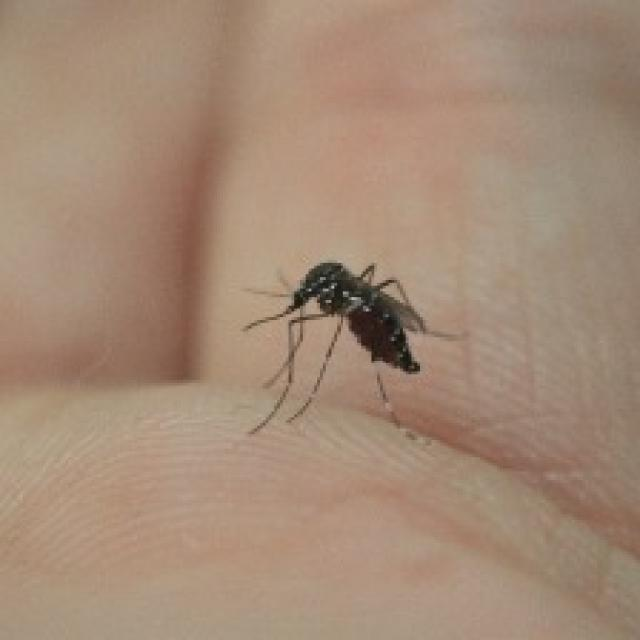aedes: (237, 257, 457, 440)
